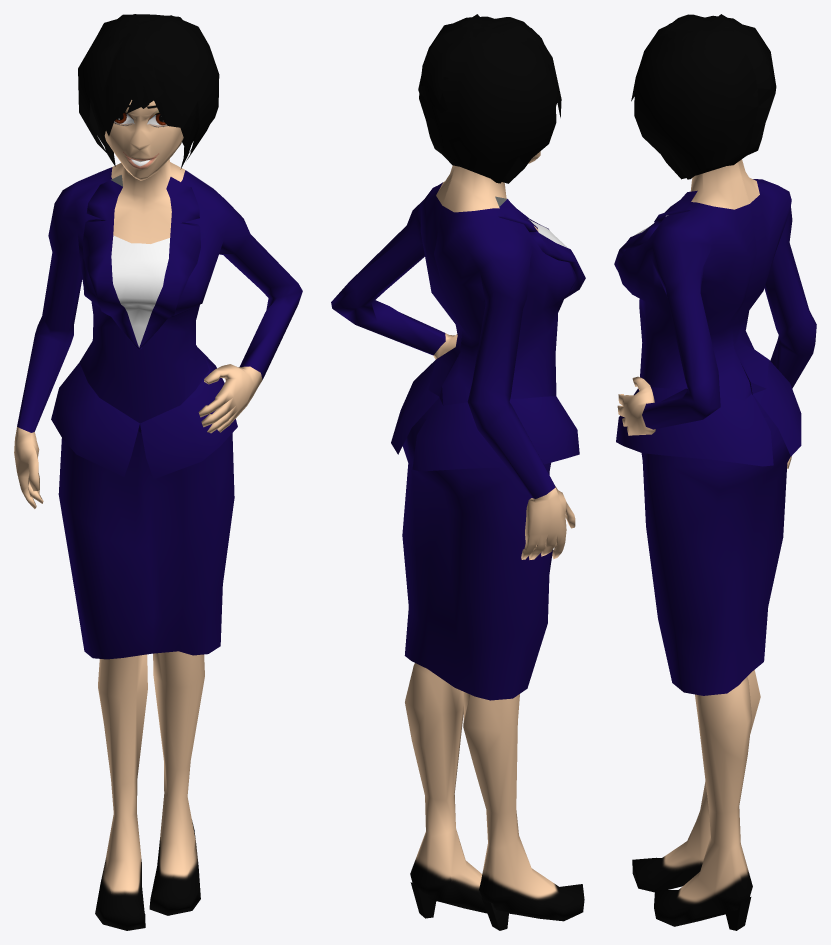
The model's file is Girl1.fbx.
The picture shows the model from 3 angles, left to right: view 1: azimuth 30°, elevation 25°; view 2: azimuth 150°, elevation 25°; view 3: azimuth 270°, elevation 25°; orthographic projection. The views are drawn at different scales.
Parts seen in each view (by area): view 1: pasted__3DGeom-5; view 2: pasted__3DGeom-5; view 3: pasted__3DGeom-5.
Part boxes in pixels (bbox=[...]): pasted__3DGeom-5: bbox=[14, 14, 302, 930]; pasted__3DGeom-5: bbox=[331, 14, 585, 930]; pasted__3DGeom-5: bbox=[614, 14, 816, 930].
Bounding box in the file's own units: 43.11 × 141 × 29.26.
3 materials, 1 textured.
